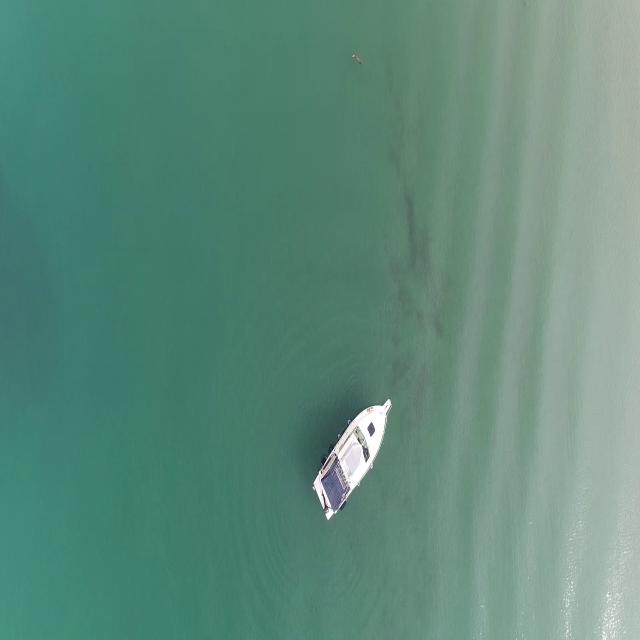boat: (314, 395, 391, 527)
wood: (352, 52, 364, 66)
